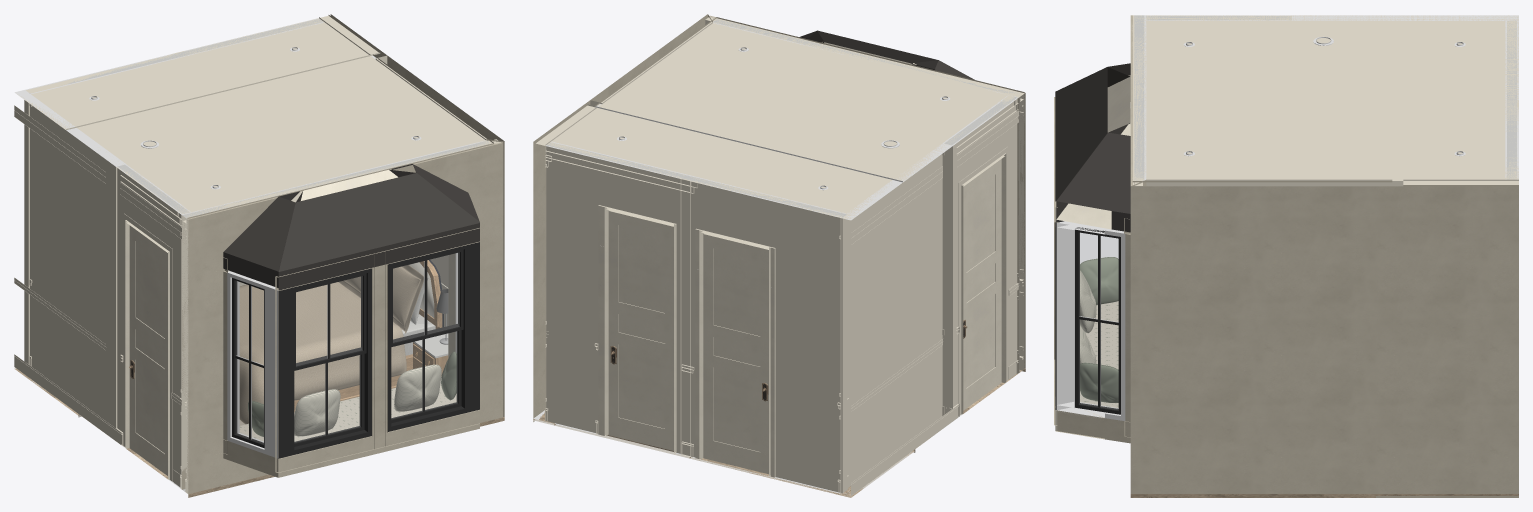
File: loli-bedroom-1109439c89f9.glb
3 views of the same model, side by side, from view 1: azimuth 30°, elevation 25°; view 2: azimuth 150°, elevation 25°; view 3: azimuth 270°, elevation 25° (orthographic). The views are drawn at different scales.
Parts seen in each view (by area): view 1: loli-bedroom-dbd60ee5c3733ed6, loli-bedroom-93447d0fea18c81b, loli-bedroom-6a1144f4e43410bb, loli-bedroom-fd1c2425c72e98e4, loli-bedroom-daa4f3edc919433a, loli-bedroom-4cda501b4aaed82b, loli-bedroom-2575515a05775d9e, loli-bedroom-7cd33252cebb505d, loli-bedroom-527014f532f46c8e, loli-bedroom-cf6d22c5317ced0b, loli-bedroom-75b75731e5e739a5, loli-bedroom-68d06b361ac47823 (+21 smaller); view 2: loli-bedroom-0e637d2be41161fb, loli-bedroom-dbd60ee5c3733ed6, loli-bedroom-6a1144f4e43410bb, loli-bedroom-eceff908bd344cec, loli-bedroom-5b37b110dc0e2cdc, loli-bedroom-2575515a05775d9e, loli-bedroom-68d06b361ac47823, loli-bedroom-cf6d22c5317ced0b, loli-bedroom-319244b3406409d9, loli-bedroom-93447d0fea18c81b, loli-bedroom-d6b1bc8c737b28e2, loli-bedroom-8cbce1d8f2f8a576 (+14 smaller); view 3: loli-bedroom-592bd9af2ed71797, loli-bedroom-dbd60ee5c3733ed6, loli-bedroom-319244b3406409d9, loli-bedroom-2575515a05775d9e, loli-bedroom-53e6a9e479527da3, loli-bedroom-daa4f3edc919433a, loli-bedroom-131a246e00605616, loli-bedroom-d8b729a36612415b, loli-bedroom-93447d0fea18c81b, loli-bedroom-0e637d2be41161fb, loli-bedroom-ad11484878029c25, loli-bedroom-e0a3201bd49c7536 (+9 smaller).
Boxes of the visible parts, x1=… form: loli-bedroom-dbd60ee5c3733ed6: x1=77, y1=54, x2=494, y2=218; loli-bedroom-93447d0fea18c81b: x1=181, y1=140, x2=502, y2=494; loli-bedroom-6a1144f4e43410bb: x1=14, y1=90, x2=125, y2=428; loli-bedroom-fd1c2425c72e98e4: x1=279, y1=268, x2=371, y2=458; loli-bedroom-daa4f3edc919433a: x1=278, y1=169, x2=479, y2=290; loli-bedroom-4cda501b4aaed82b: x1=388, y1=242, x2=479, y2=431; loli-bedroom-2575515a05775d9e: x1=17, y1=15, x2=380, y2=130; loli-bedroom-7cd33252cebb505d: x1=239, y1=282, x2=406, y2=424; loli-bedroom-527014f532f46c8e: x1=227, y1=271, x2=278, y2=458; loli-bedroom-cf6d22c5317ced0b: x1=129, y1=225, x2=167, y2=475; loli-bedroom-75b75731e5e739a5: x1=277, y1=264, x2=478, y2=477; loli-bedroom-68d06b361ac47823: x1=116, y1=164, x2=190, y2=487; loli-bedroom-0e637d2be41161fb: x1=545, y1=141, x2=847, y2=493; loli-bedroom-dbd60ee5c3733ed6: x1=595, y1=17, x2=1024, y2=182; loli-bedroom-6a1144f4e43410bb: x1=842, y1=143, x2=952, y2=495; loli-bedroom-eceff908bd344cec: x1=608, y1=210, x2=673, y2=450; loli-bedroom-5b37b110dc0e2cdc: x1=703, y1=233, x2=768, y2=474; loli-bedroom-2575515a05775d9e: x1=535, y1=104, x2=892, y2=220; loli-bedroom-68d06b361ac47823: x1=942, y1=96, x2=1018, y2=420; loli-bedroom-cf6d22c5317ced0b: x1=963, y1=159, x2=1001, y2=410; loli-bedroom-319244b3406409d9: x1=533, y1=100, x2=601, y2=419; loli-bedroom-93447d0fea18c81b: x1=709, y1=15, x2=1025, y2=372; loli-bedroom-d6b1bc8c737b28e2: x1=695, y1=228, x2=775, y2=477; loli-bedroom-8cbce1d8f2f8a576: x1=961, y1=153, x2=1006, y2=414; loli-bedroom-592bd9af2ed71797: x1=1130, y1=179, x2=1392, y2=493; loli-bedroom-dbd60ee5c3733ed6: x1=1132, y1=15, x2=1403, y2=182; loli-bedroom-319244b3406409d9: x1=1392, y1=179, x2=1518, y2=493; loli-bedroom-2575515a05775d9e: x1=1403, y1=15, x2=1518, y2=186; loli-bedroom-53e6a9e479527da3: x1=1056, y1=221, x2=1125, y2=421; loli-bedroom-daa4f3edc919433a: x1=1055, y1=67, x2=1130, y2=221; loli-bedroom-131a246e00605616: x1=1056, y1=124, x2=1130, y2=232; loli-bedroom-d8b729a36612415b: x1=1055, y1=234, x2=1130, y2=443; loli-bedroom-93447d0fea18c81b: x1=1130, y1=15, x2=1146, y2=185; loli-bedroom-0e637d2be41161fb: x1=1505, y1=20, x2=1518, y2=179; loli-bedroom-ad11484878029c25: x1=1147, y1=177, x2=1391, y2=186; loli-bedroom-e0a3201bd49c7536: x1=1080, y1=301, x2=1118, y2=407.
Size of the model in its own units: 3.62 by 3.05 by 4.12.
Materials: 43 (12 with a texture image).
